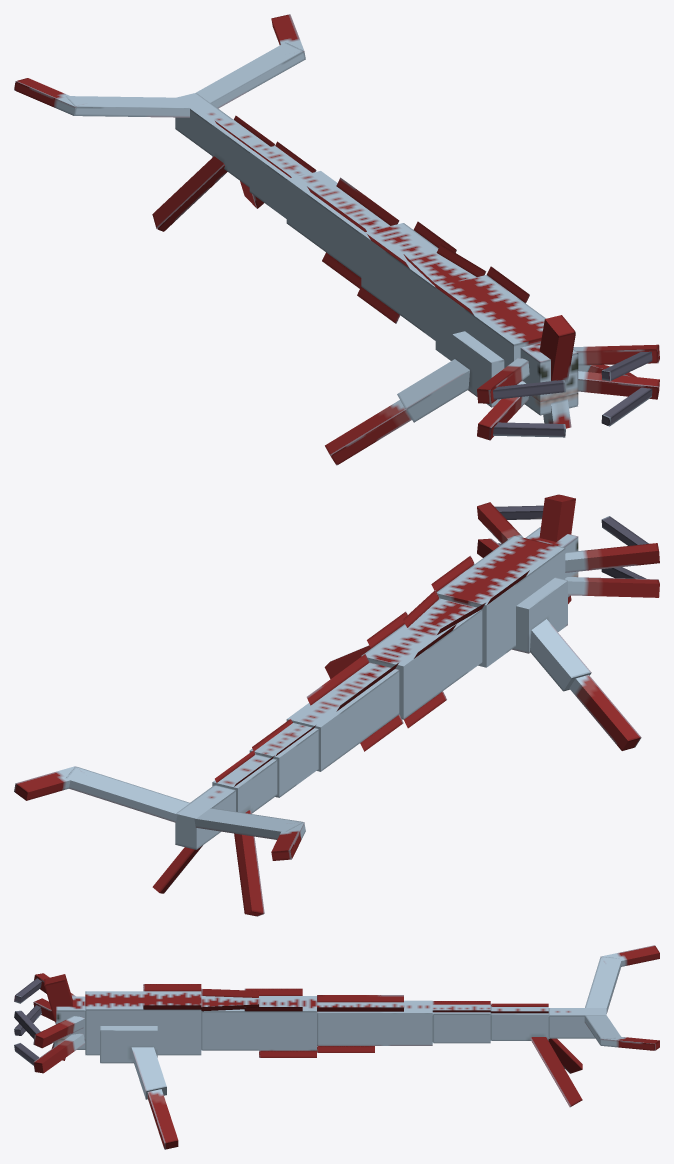
File: reaper.obj
The picture shows the model from 3 angles, top to bottom: view 1: azimuth 30°, elevation 25°; view 2: azimuth 150°, elevation 25°; view 3: azimuth 270°, elevation 25°; orthographic projection. The views are drawn at different scales.
Parts seen in each view (by area): view 1: cube; view 2: cube; view 3: cube.
Part boxes in pixels (x1=…): cube: x1=14, y1=14, x2=659, y2=465; cube: x1=14, y1=494, x2=659, y2=916; cube: x1=14, y1=945, x2=659, y2=1149.
Size of the model in its own units: 4.57 by 2.27 by 11.16.
